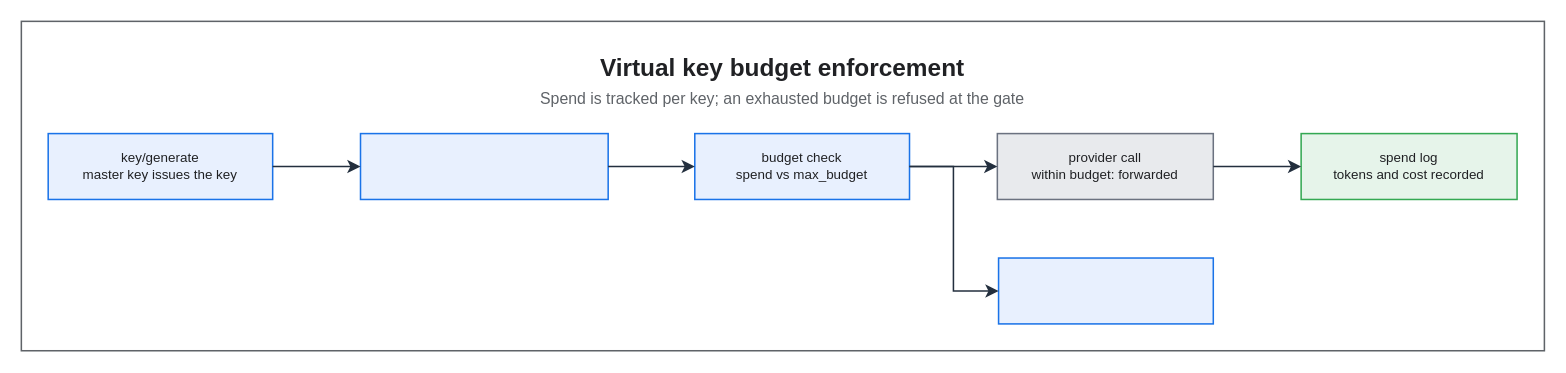
This 1566x373 diagram has some shape labels left out. The centre of each missing label's shape, as x and y in pixels:
429 refused budget_exceeded: pixel 1105 290
chat/completions client sends the virtual key: pixel 483 166
